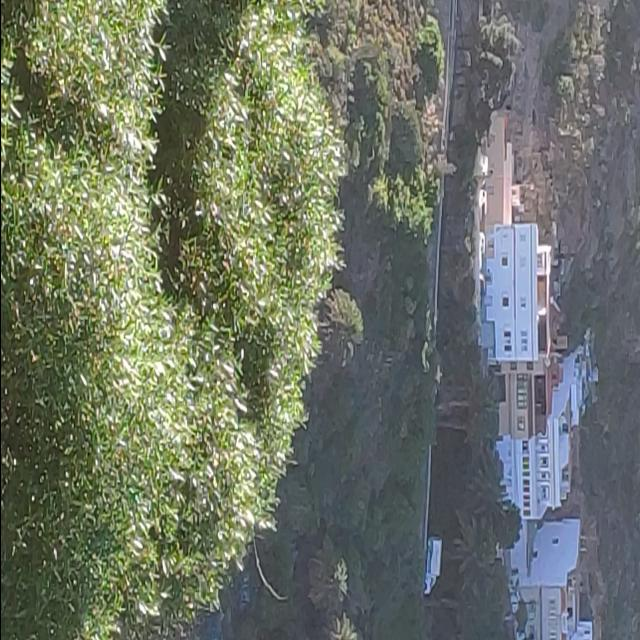Palm-Trees: (315, 288, 364, 364), (306, 543, 344, 625)
